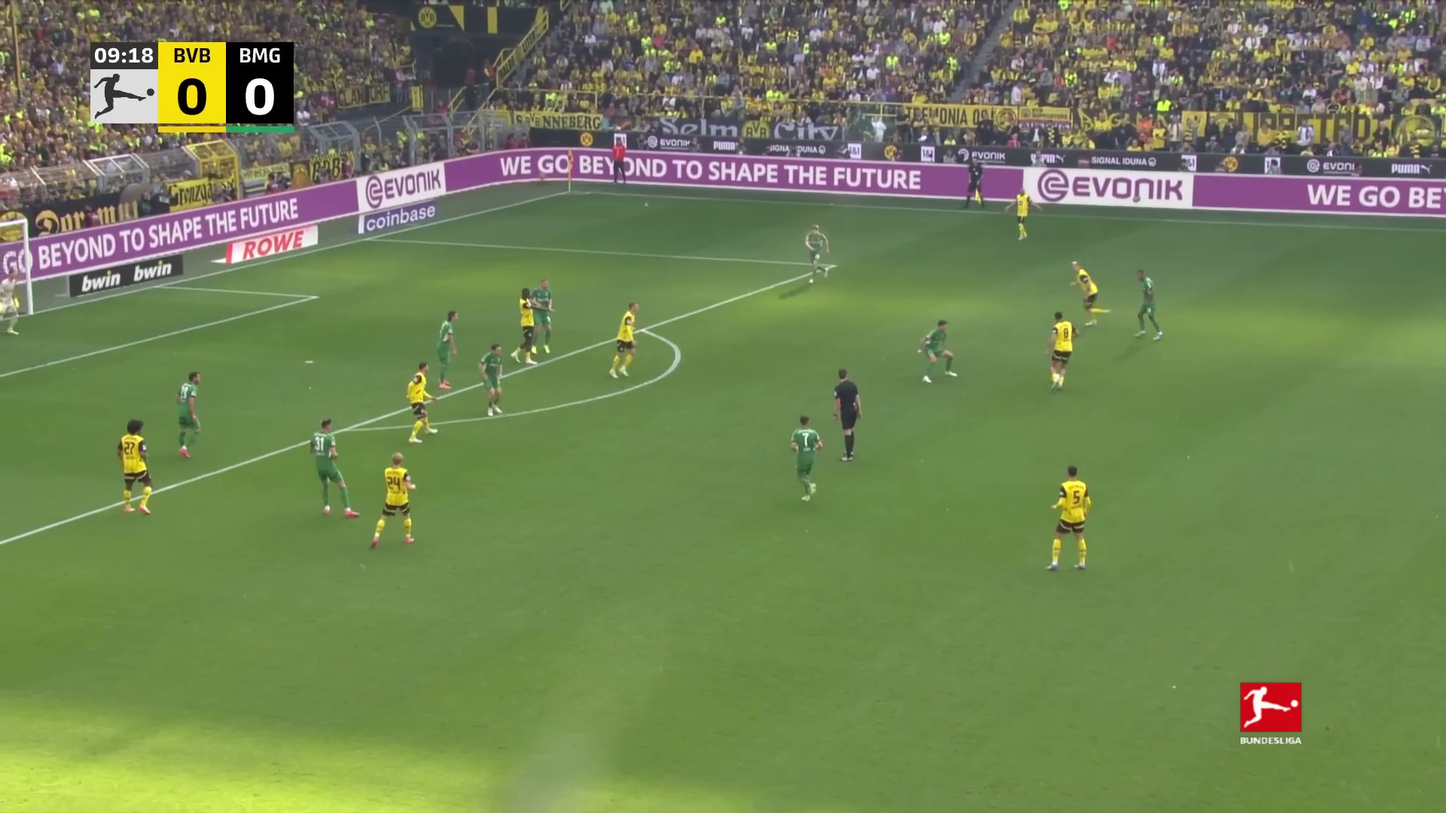player: (1042, 464, 1098, 574), (367, 452, 422, 551), (306, 416, 358, 520), (112, 417, 159, 517), (787, 414, 826, 503), (401, 362, 443, 444), (170, 370, 208, 459), (914, 319, 962, 384), (1042, 310, 1080, 392), (1067, 261, 1114, 327), (605, 301, 644, 380), (1129, 268, 1166, 342), (509, 287, 542, 369), (477, 342, 509, 420), (0, 240, 25, 338), (433, 309, 463, 390), (801, 222, 837, 285), (531, 276, 558, 356), (0, 265, 23, 338), (1006, 188, 1035, 243)
referee: (829, 368, 867, 464), (959, 157, 988, 213)
